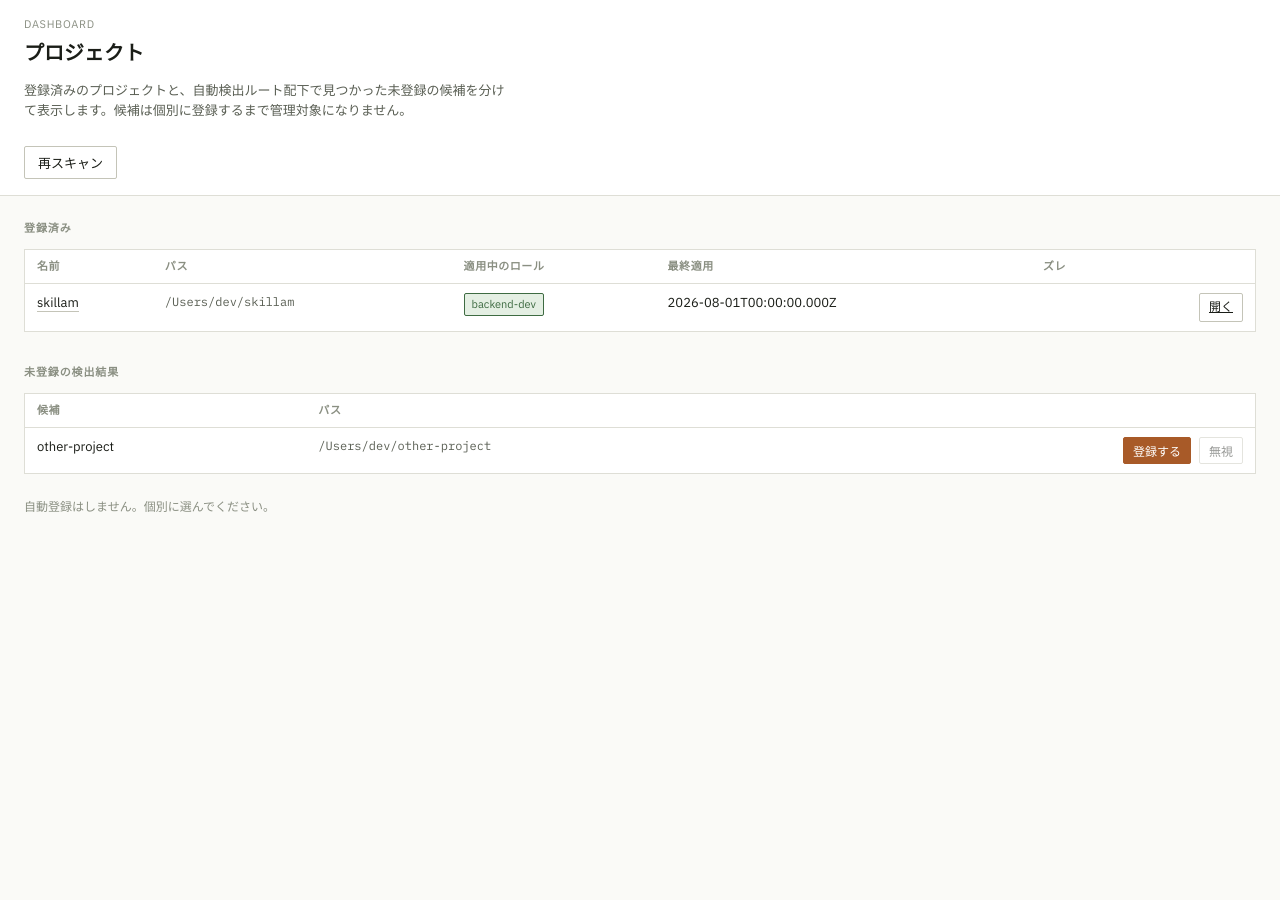
Test: Dashboard › shows the message when registering fails
Expected: the text "other-project" is shown, [25,428,306,473]
Click the button "登録する" at {"x": 1157, "y": 451}, box [1123,437,1191,464]
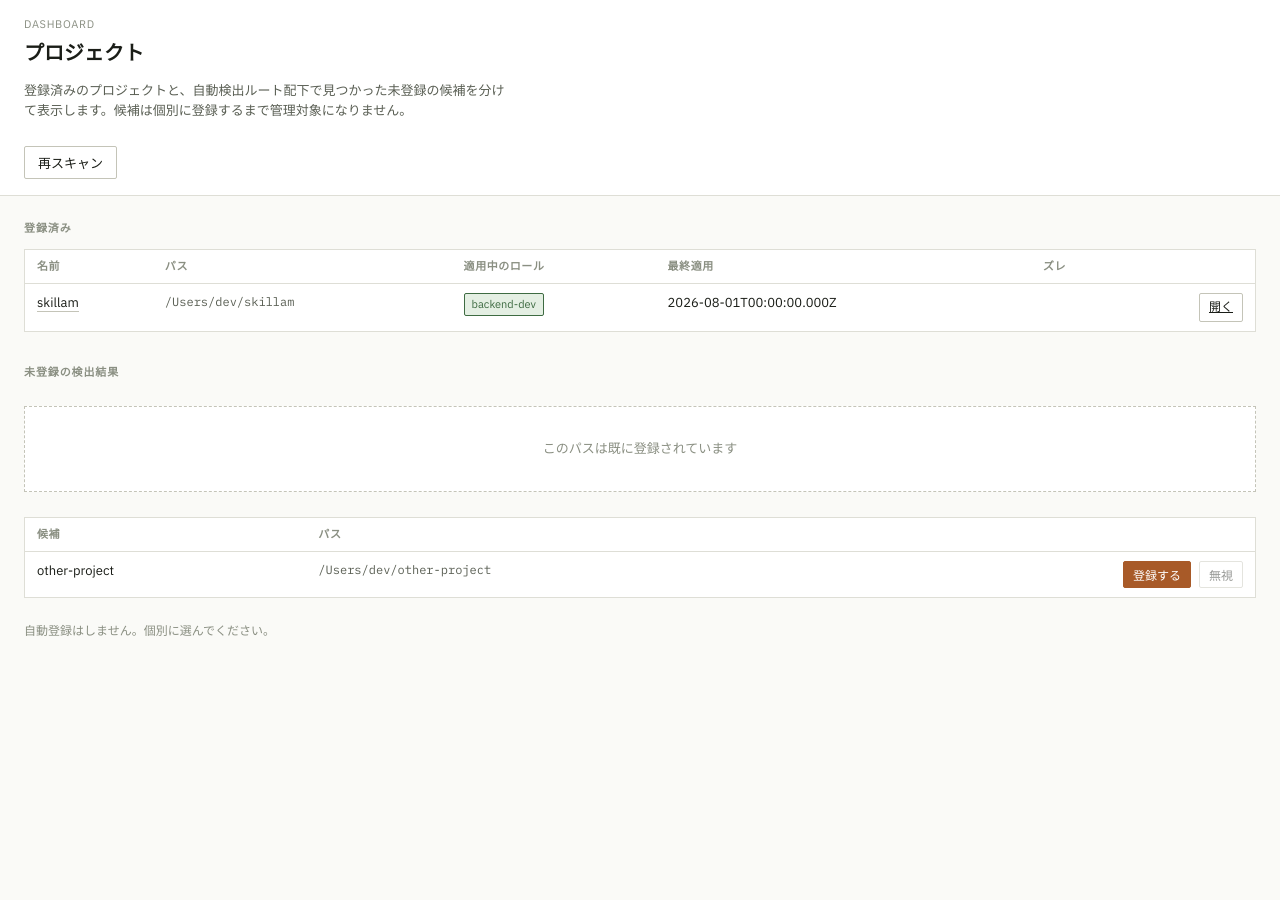
Result: the text "このパスは既に登録されています" is shown at [24,406,1256,492]
